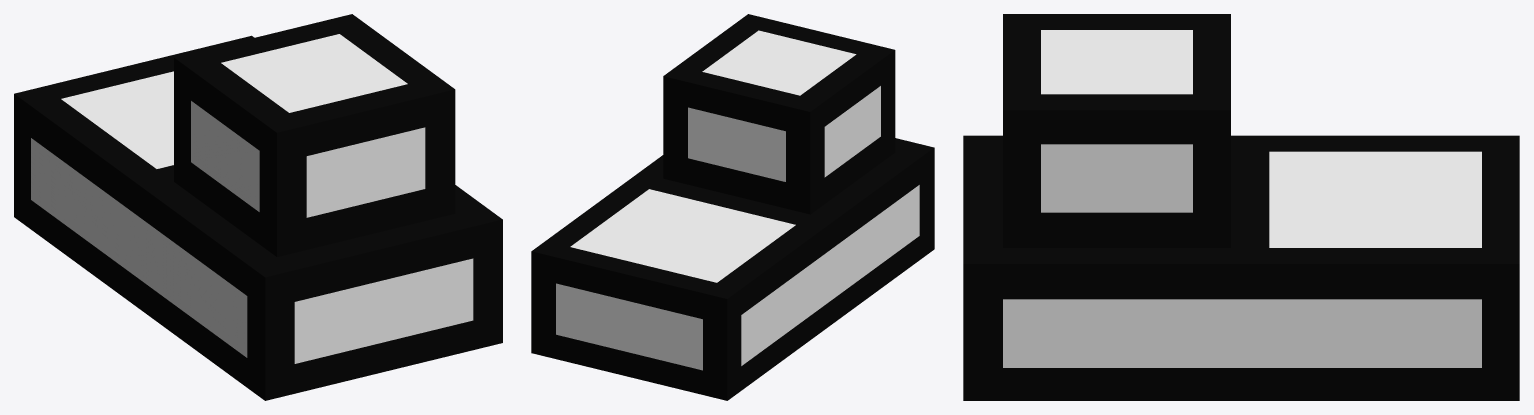
File: player_legL.obj
3 views of the same model, side by side, from view 1: azimuth 30°, elevation 25°; view 2: azimuth 150°, elevation 25°; view 3: azimuth 270°, elevation 25° (orthographic). The views are drawn at different scales.
Visible parts, largest first — view 1: LegL_立方体.002; view 2: LegL_立方体.002; view 3: LegL_立方体.002.
Part boxes in pixels (box(x1,y1,x2,y2)): LegL_立方体.002: box(14, 14, 502, 400); LegL_立方体.002: box(531, 14, 934, 400); LegL_立方体.002: box(963, 14, 1519, 400).
Bounding box in the file's own units: 0.7999 × 0.7969 × 1.46.
